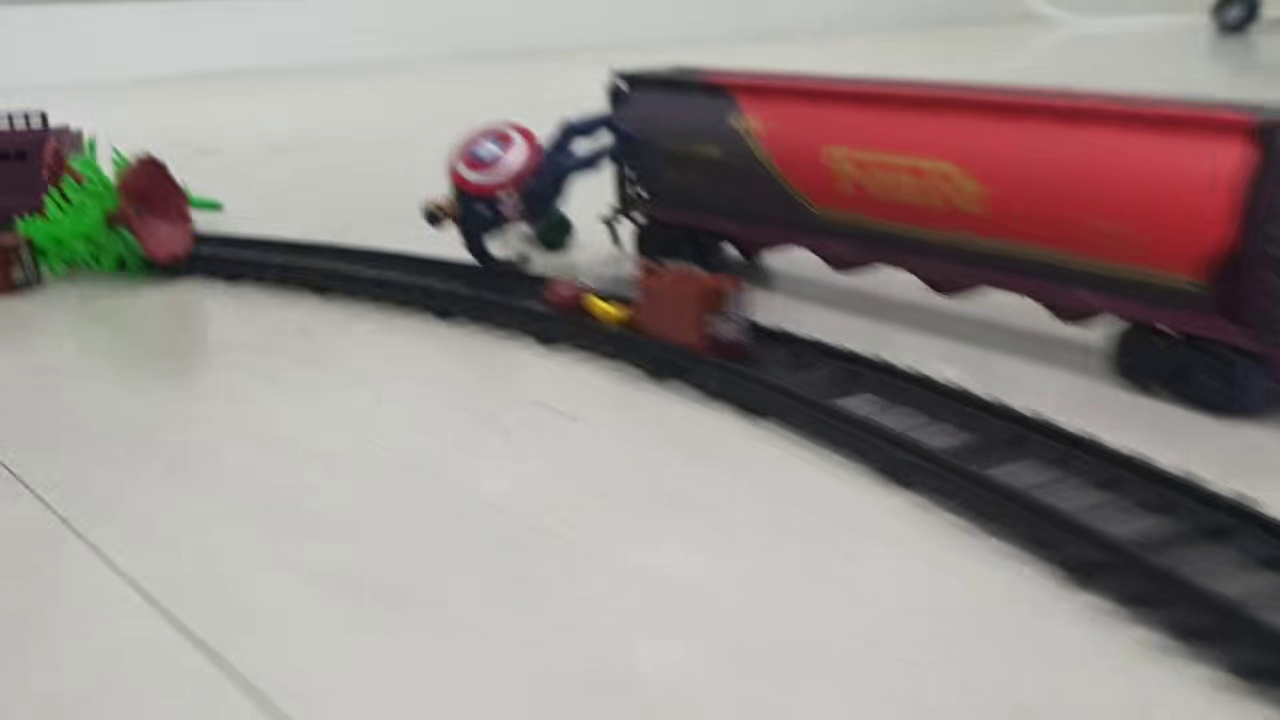box: (636, 273, 752, 344), (1, 230, 45, 297)
people: (418, 111, 623, 274), (549, 264, 650, 332)
tree: (13, 133, 198, 275), (44, 134, 227, 221)
